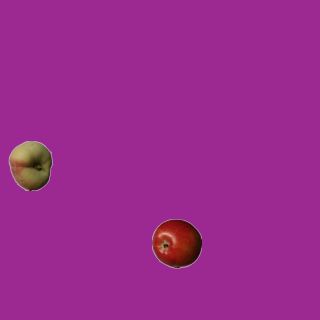Apple Braeburn: (151, 218, 201, 268)
Peach Flat: (5, 140, 55, 190)
